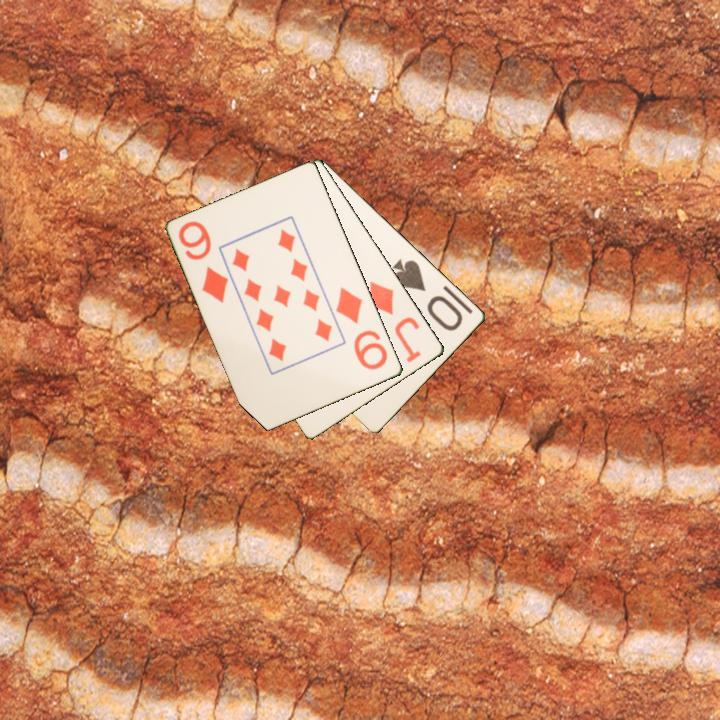10s: (389, 255, 466, 334)
9d: (333, 283, 391, 373), (175, 217, 232, 306)
Jd: (366, 278, 424, 366)
